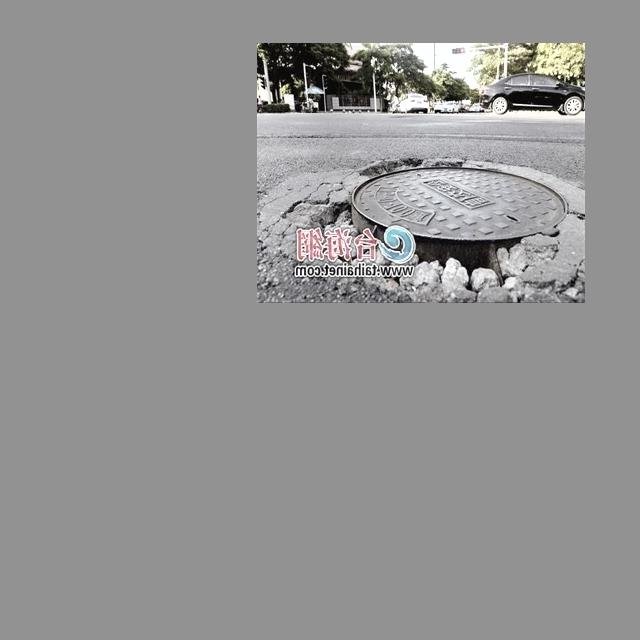circle: (275, 156, 580, 288)
